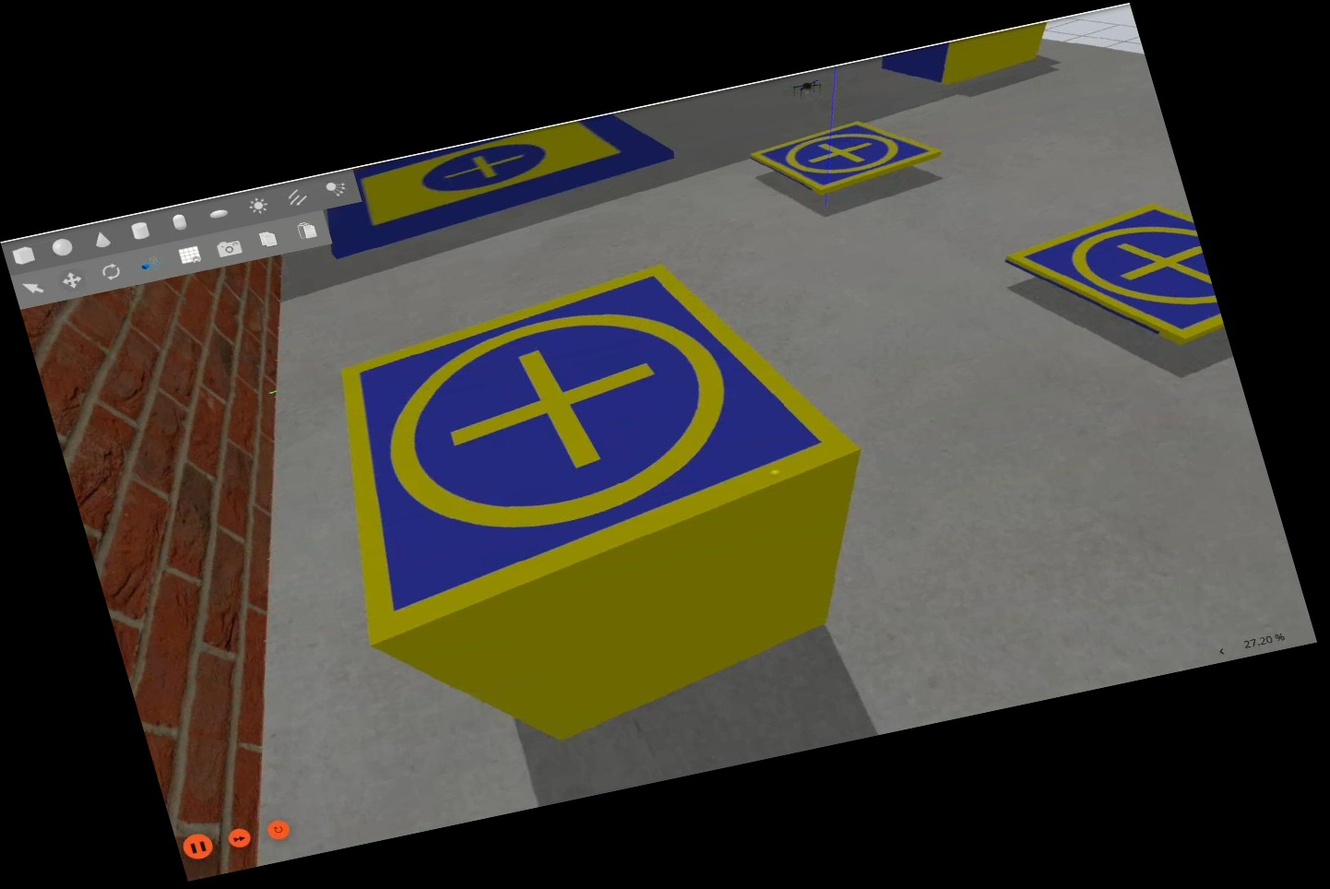large_base: (310, 101, 687, 256)
small_base: (276, 231, 887, 649), (996, 194, 1234, 376), (749, 103, 947, 202)
